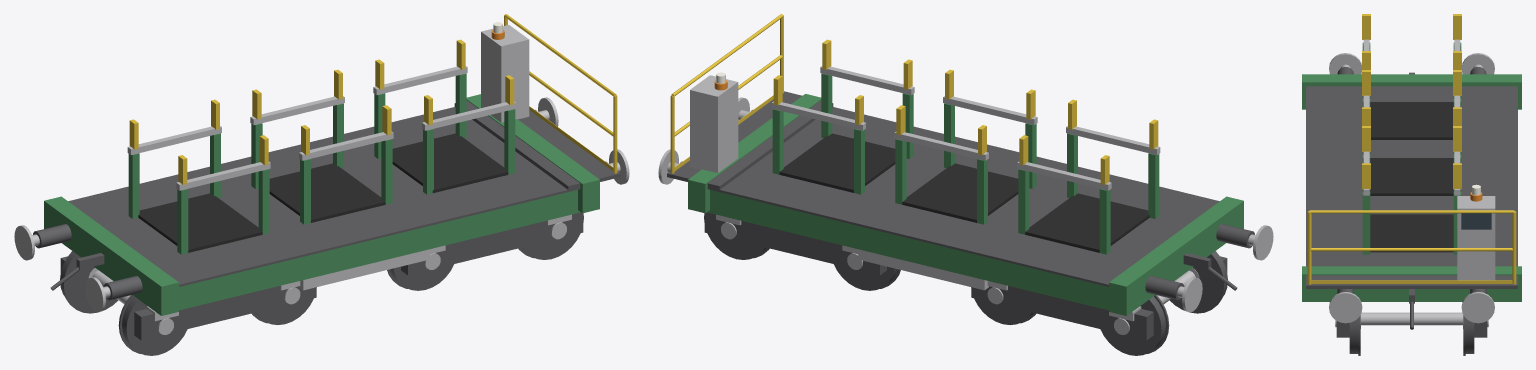
File: SM_AnodeTransferCar.fbx
3 views of the same model, side by side, from view 1: azimuth 30°, elevation 25°; view 2: azimuth 150°, elevation 25°; view 3: azimuth 270°, elevation 25° (orthographic). The views are drawn at different scales.
Parts seen in each view (by area): view 1: ATC2_Body, ATC2_Bogie2_Frame, ATC2_Bogie2_WS1, ATC2_Bogie1_Frame, ATC2_Bogie1_WS1, ATC2_Bogie1_WS2, ATC2_Bogie2_WS2; view 2: ATC2_Body, ATC2_Bogie2_Frame, ATC2_Bogie2_WS1, ATC2_Bogie1_Frame, ATC2_Bogie1_WS1, ATC2_Bogie1_WS2, ATC2_Bogie2_WS2; view 3: ATC2_Body, ATC2_Bogie1_WS2, ATC2_Bogie1_Frame.
Part boxes in pixels (bbox=[...]): ATC2_Body: bbox=[14, 14, 629, 315]; ATC2_Bogie2_Frame: bbox=[60, 256, 316, 340]; ATC2_Bogie2_WS1: bbox=[60, 251, 187, 355]; ATC2_Bogie1_Frame: bbox=[401, 212, 583, 275]; ATC2_Bogie1_WS1: bbox=[387, 253, 453, 290]; ATC2_Bogie1_WS2: bbox=[518, 213, 583, 259]; ATC2_Bogie2_WS2: bbox=[252, 287, 316, 324]; ATC2_Body: bbox=[658, 14, 1273, 315]; ATC2_Bogie2_Frame: bbox=[971, 256, 1227, 340]; ATC2_Bogie2_WS1: bbox=[1100, 251, 1227, 355]; ATC2_Bogie1_Frame: bbox=[704, 212, 886, 275]; ATC2_Bogie1_WS1: bbox=[834, 253, 900, 290]; ATC2_Bogie1_WS2: bbox=[704, 213, 769, 259]; ATC2_Bogie2_WS2: bbox=[971, 287, 1035, 324]; ATC2_Body: bbox=[1302, 14, 1521, 329]; ATC2_Bogie1_WS2: bbox=[1335, 312, 1488, 355]; ATC2_Bogie1_Frame: bbox=[1336, 321, 1487, 337].
Bounding box in the file's own units: 772 × 252 × 290.
